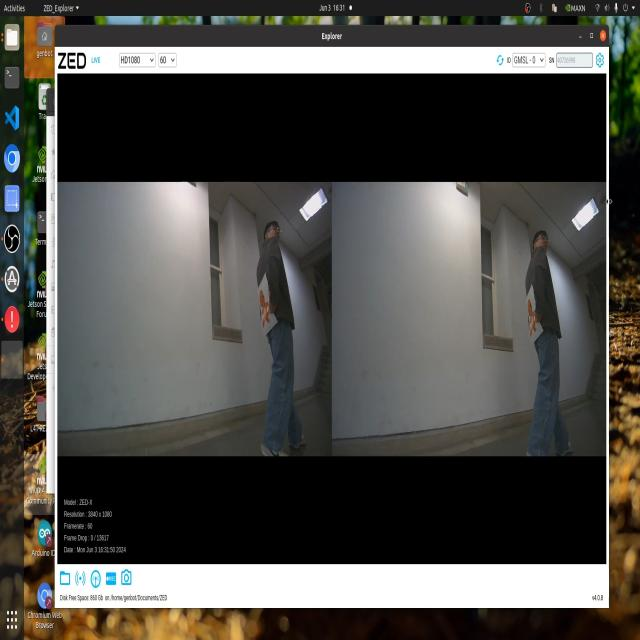red: (524, 301, 547, 334), (257, 283, 271, 327)
